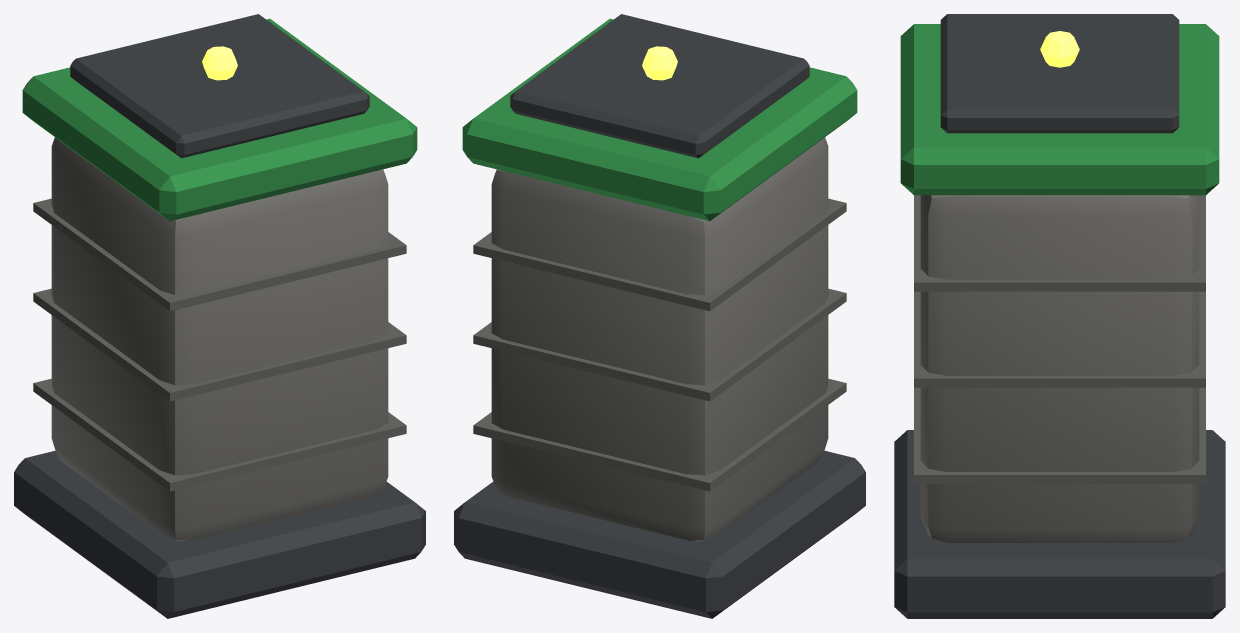
The model's file is wall.glb.
3 renders of one model, left to right at view 1: azimuth 30°, elevation 25°; view 2: azimuth 150°, elevation 25°; view 3: azimuth 270°, elevation 25°, orthographic. The views are drawn at different scales.
Visible parts, largest first — view 1: Wall_Walls, Wall_Details, Wall_Foundation; view 2: Wall_Walls, Wall_Details, Wall_Foundation; view 3: Wall_Walls, Wall_Details, Wall_Foundation.
Part boxes in pixels (box(x1,y1,x2,y2)): Wall_Walls: box(22, 18, 417, 541); Wall_Details: box(33, 14, 406, 491); Wall_Foundation: box(14, 450, 425, 618); Wall_Walls: box(462, 18, 857, 541); Wall_Details: box(473, 14, 846, 491); Wall_Foundation: box(454, 450, 865, 618); Wall_Walls: box(900, 24, 1219, 542); Wall_Details: box(914, 14, 1205, 483); Wall_Foundation: box(894, 430, 1225, 618).
Bounding box in the file's own units: 0.5 × 0.87 × 0.5.
